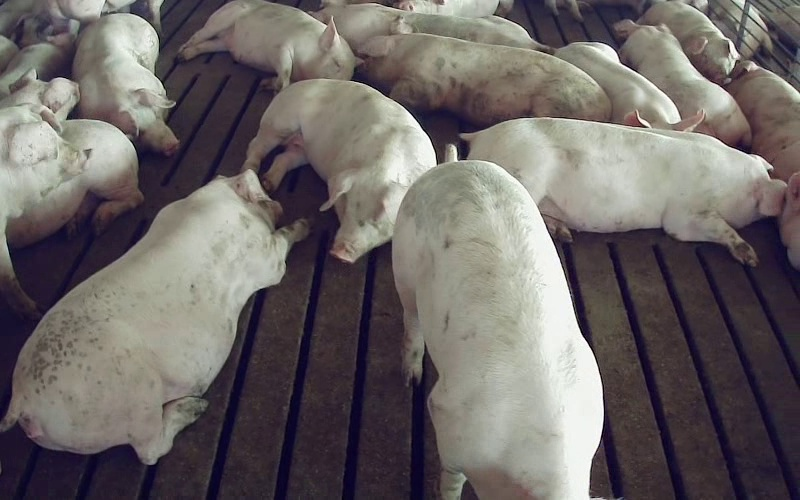pig: (0, 170, 307, 463), (392, 145, 602, 499), (461, 118, 786, 265), (242, 80, 435, 262), (357, 33, 610, 126), (614, 19, 751, 146), (178, 0, 355, 90), (72, 13, 178, 155), (554, 42, 704, 131), (312, 3, 553, 53), (726, 61, 799, 181), (638, 0, 739, 84)
